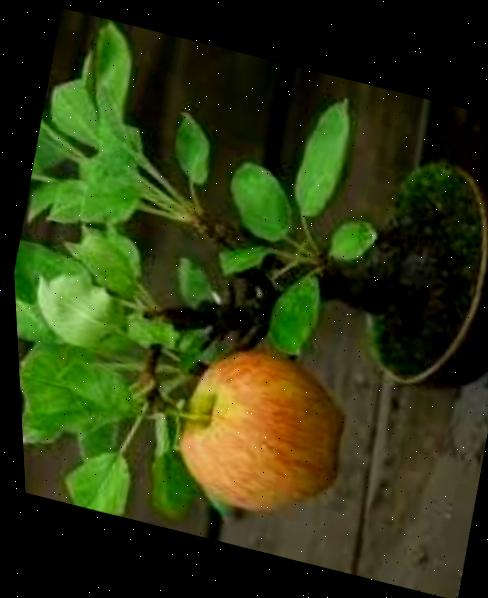HEALTHY: (139, 327, 366, 548)
